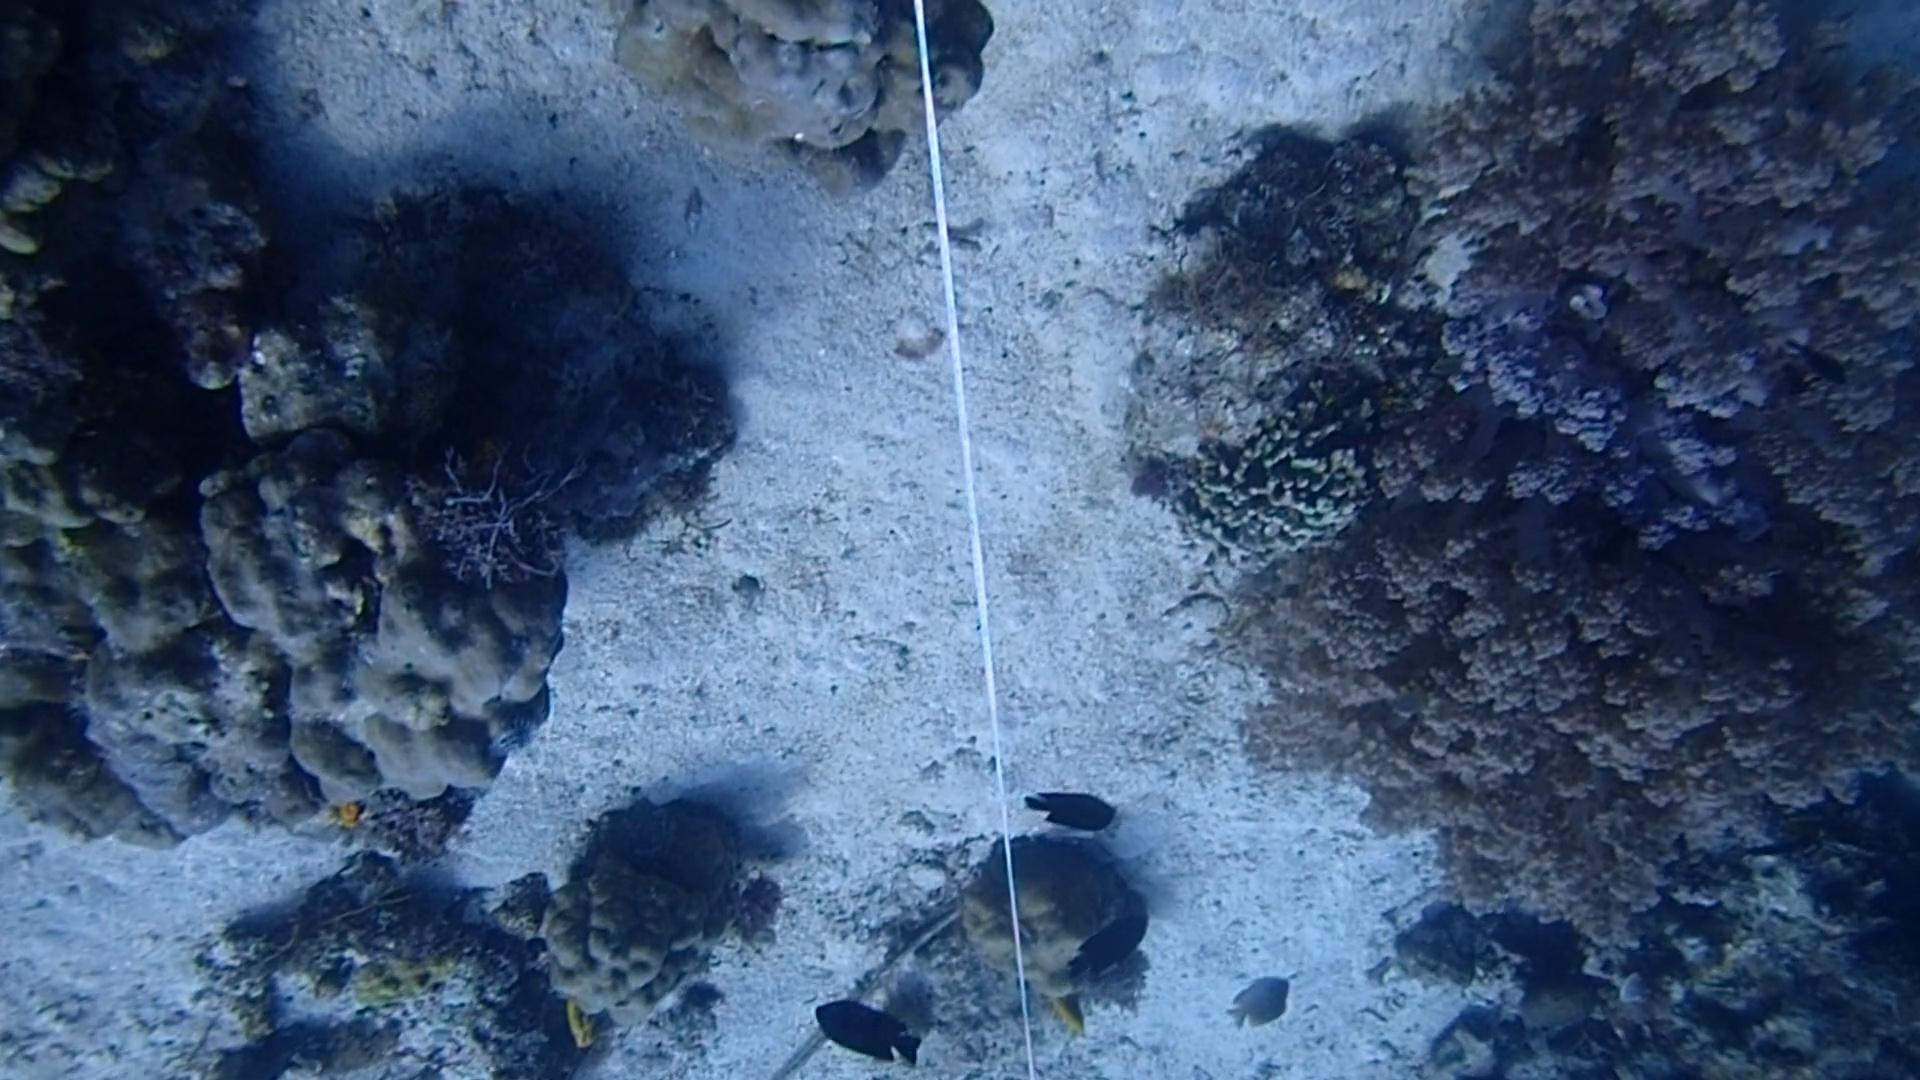Dark Fish: (798, 986, 928, 1076), (1067, 909, 1156, 993), (1017, 781, 1125, 841), (1771, 332, 1858, 402)
Light Fish: (1221, 969, 1298, 1046)
